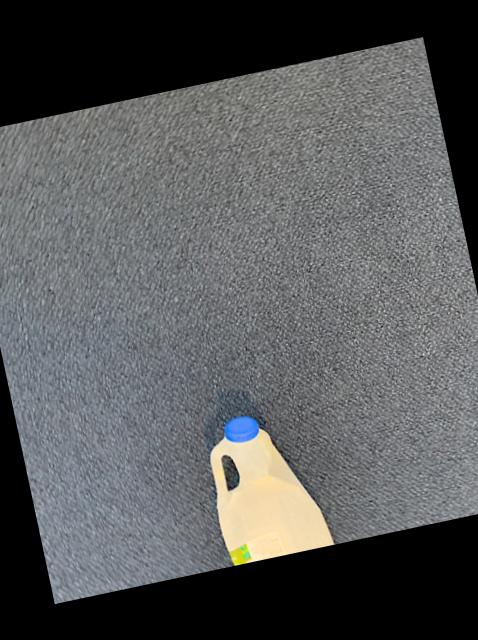plastic: (211, 418, 333, 565)
